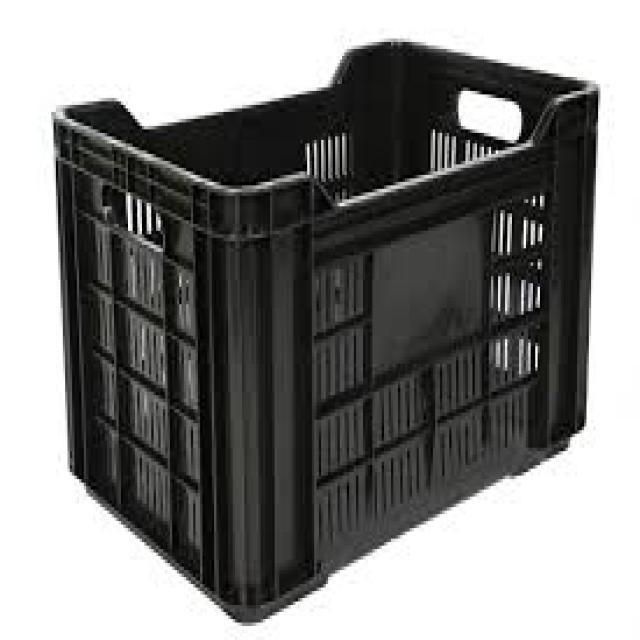basket: (40, 32, 598, 631)
